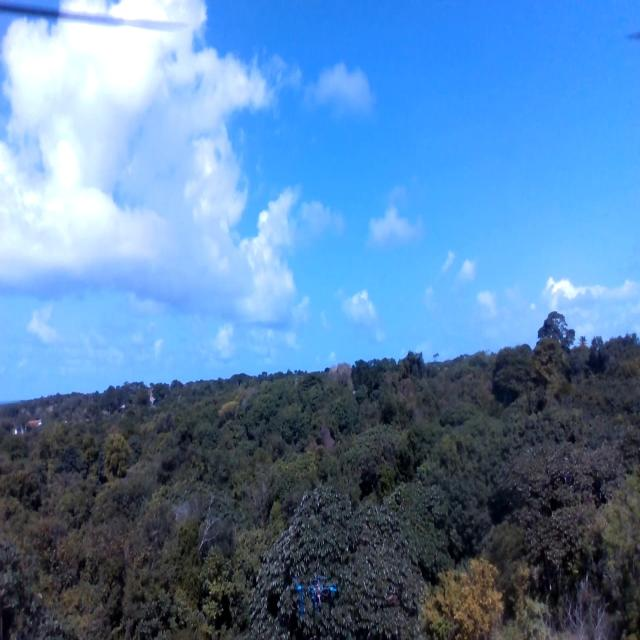-uav-: (292, 566, 339, 618)
